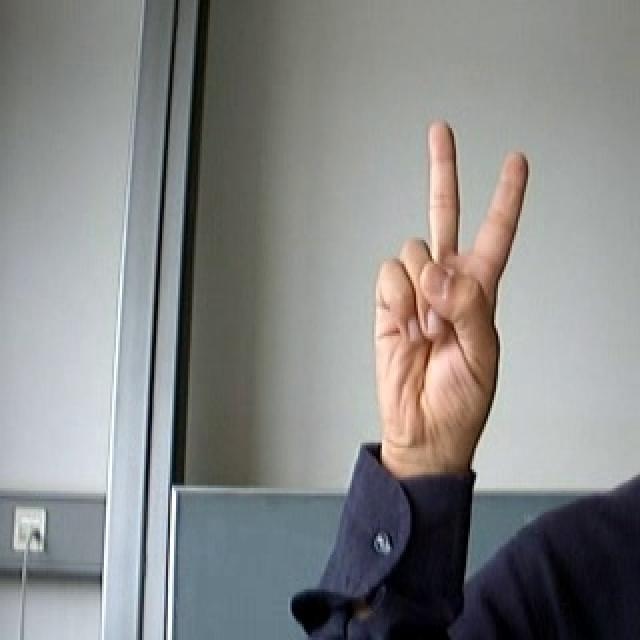V: (341, 104, 544, 461)
